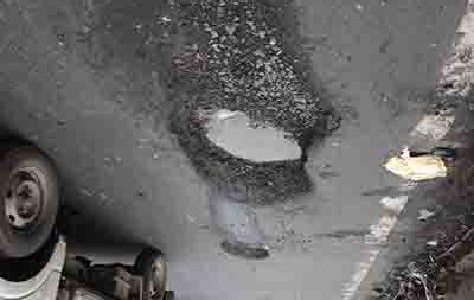pothole: (167, 4, 339, 207), (219, 239, 270, 262)
